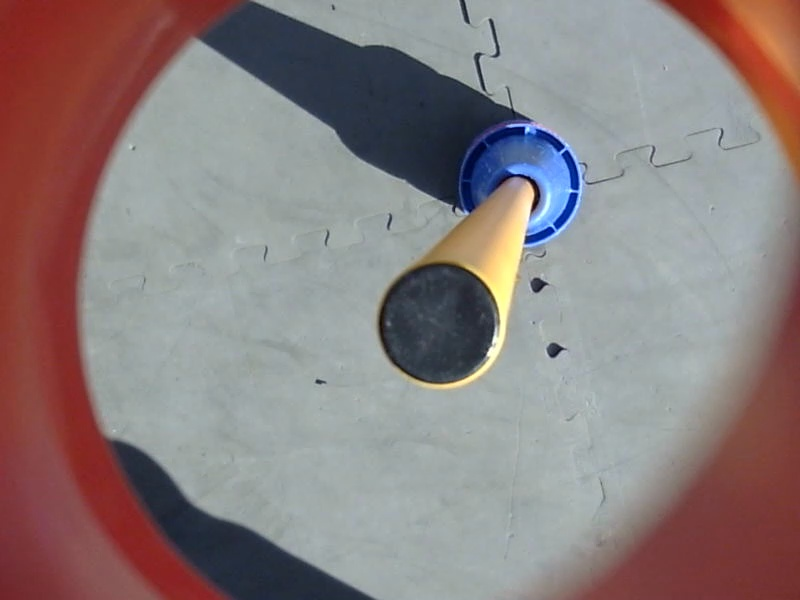tip: (372, 257, 509, 395)
